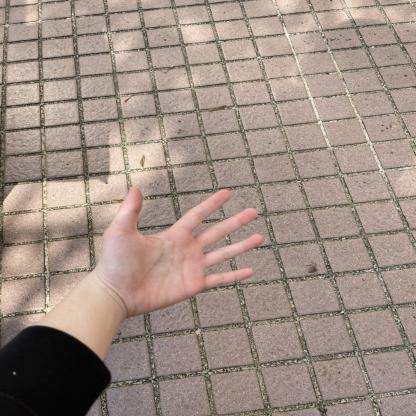bare_hand: (90, 182, 270, 326)
